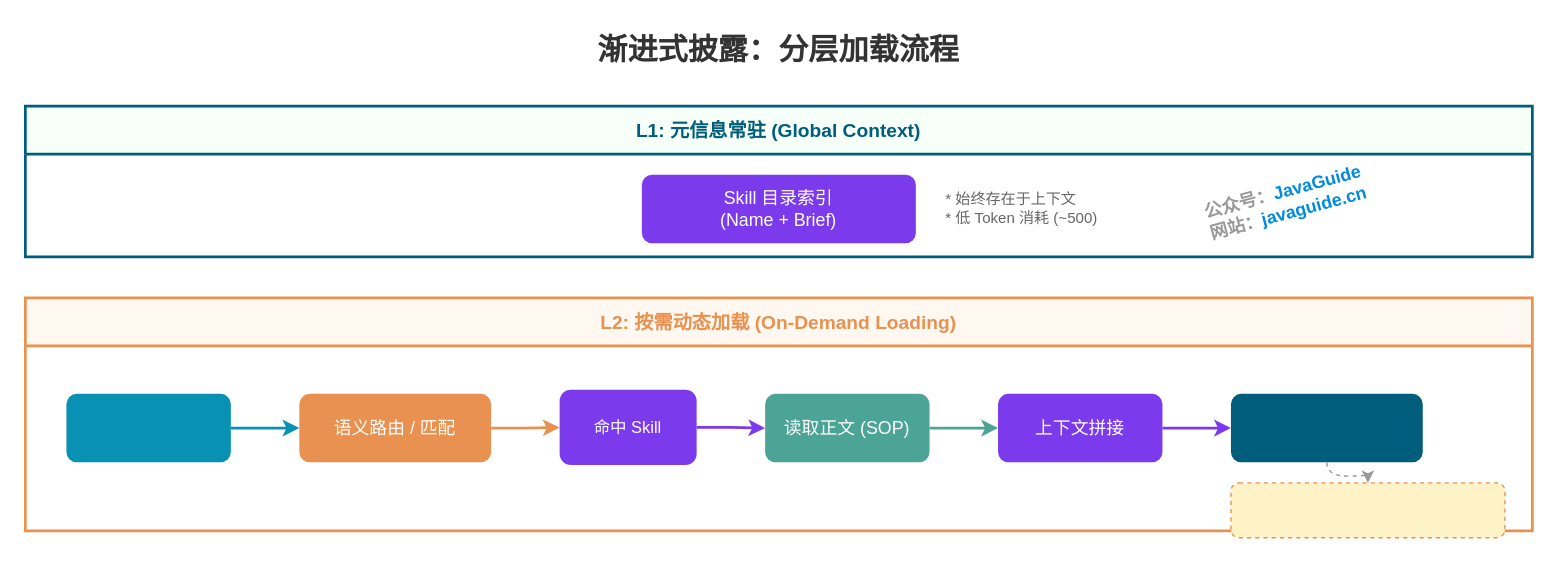
Image size: 1556x562. Some labels were removed from this diagram. The shapes that lost their labels are listed below. From the top down, each one's centre as x and y in pixels, then its label:
At [148,427]: "用户 Query".
At [1326,427]: "LLM 任务执行".
At [1367,510]: "动态兜底：新关键词触发加载".
